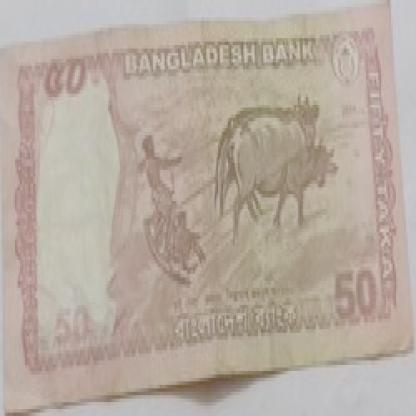Fifty taka: (43, 52, 110, 132), (330, 264, 386, 343)
